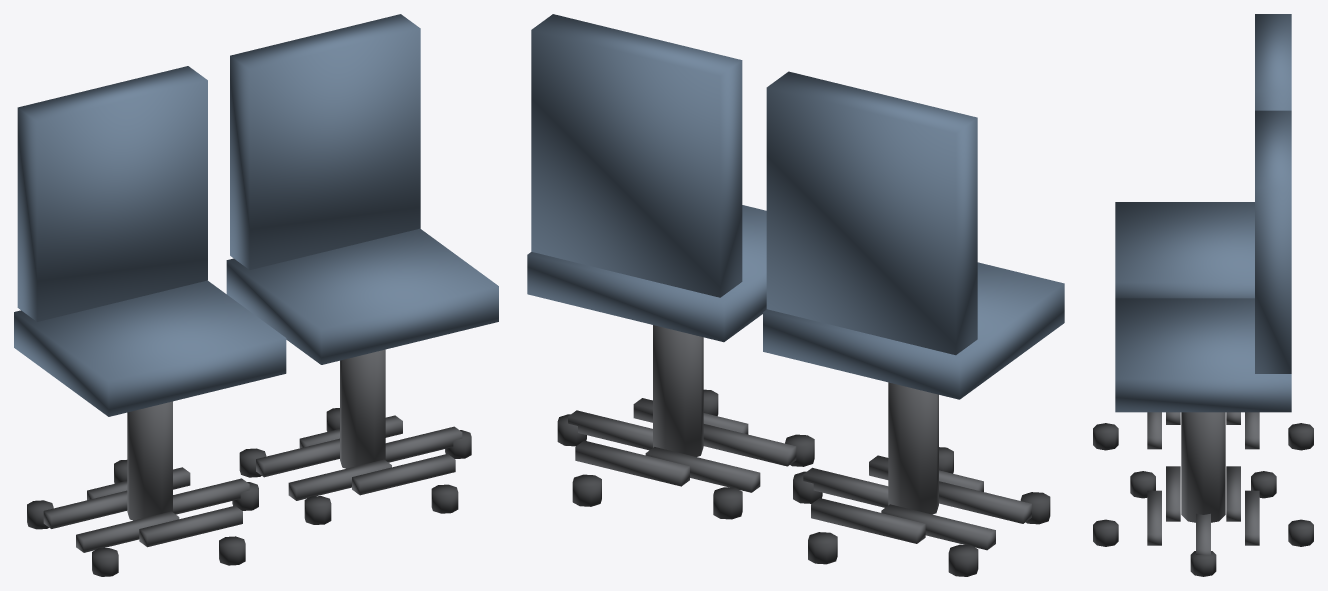
The model's file is office_task_chair__cluster.glb.
3 views of the same model, side by side, from view 1: azimuth 30°, elevation 25°; view 2: azimuth 150°, elevation 25°; view 3: azimuth 270°, elevation 25° (orthographic). The views are drawn at different scales.
Visible parts, largest first — view 1: world; view 2: world; view 3: world.
Part boxes in pixels (bbox=[...]): world: bbox=[14, 14, 498, 576]; world: bbox=[527, 14, 1064, 576]; world: bbox=[1093, 14, 1313, 576].
Bounding box in the file's own units: 1.2 × 1.14 × 0.6026.
